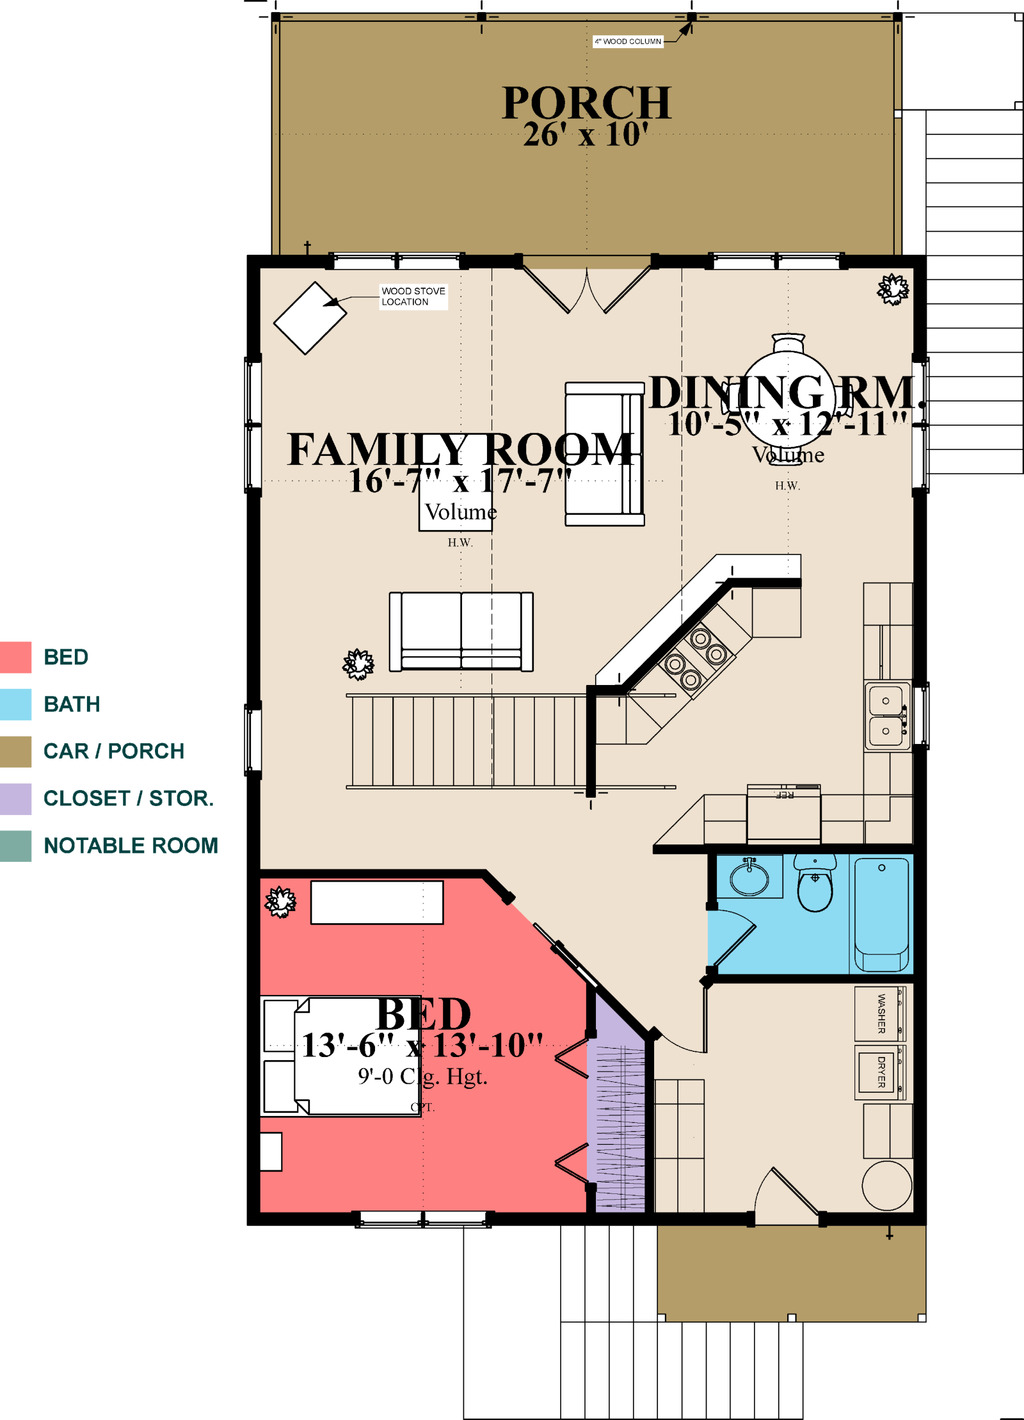bed: (247, 986, 425, 1117)
door: (502, 252, 659, 320), (658, 976, 722, 1056), (747, 1165, 822, 1217)
large_sink: (791, 849, 843, 915)
large_sofa: (558, 374, 653, 529), (379, 587, 533, 676)
small_sink: (709, 850, 785, 899)
stairs: (455, 1218, 819, 1420), (901, 97, 1024, 473), (338, 688, 591, 799)
tub: (847, 856, 919, 986)
twin_sink: (856, 671, 917, 753)
windows: (238, 353, 270, 494), (323, 246, 466, 275), (699, 252, 881, 262)
